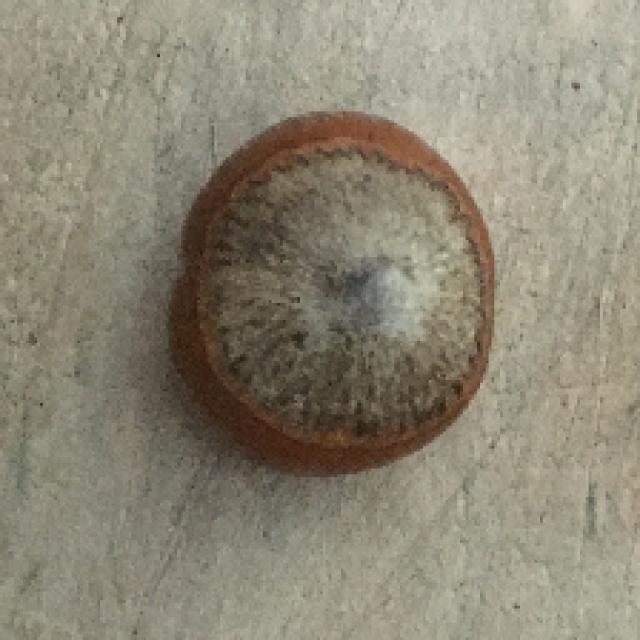qualityHazelnut: (165, 101, 502, 478)
